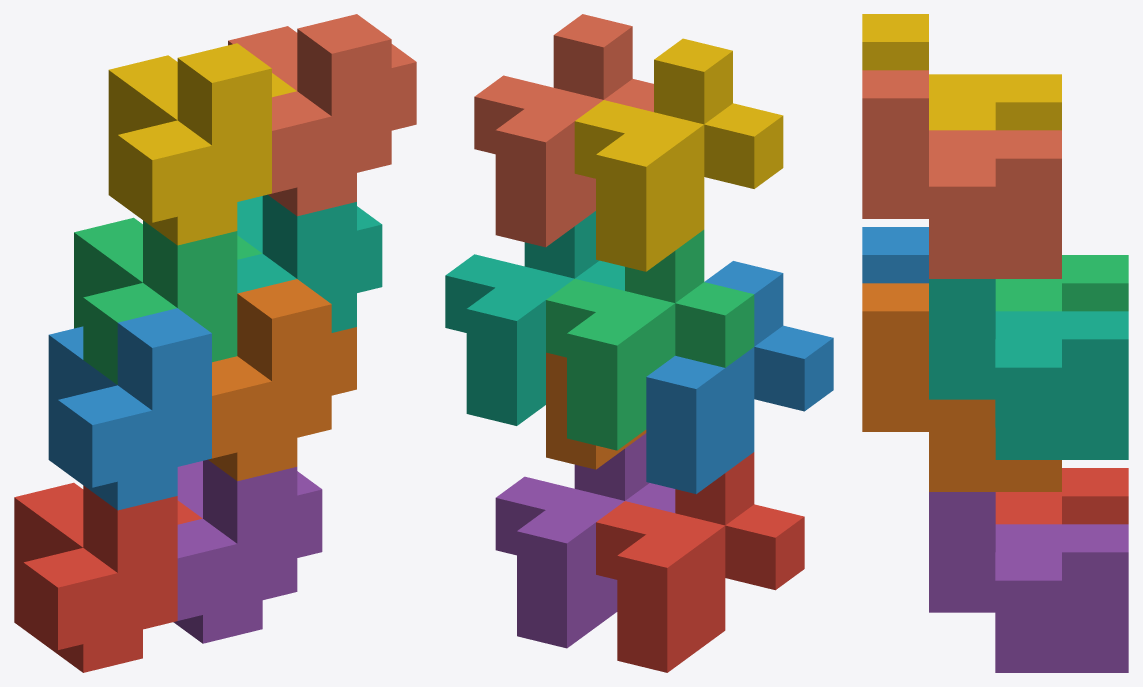
Rendered from tiling.obj.
3 renders of one model, left to right at view 1: azimuth 30°, elevation 25°; view 2: azimuth 150°, elevation 25°; view 3: azimuth 270°, elevation 25°, orthographic. The views are drawn at different scales.
Parts seen in each view (by area): view 1: copy_1_domain_4, copy_1_domain_2, copy_1_domain_1, copy_1_domain_8, copy_1_domain_6, copy_1_domain_5, copy_1_domain_3, copy_1_domain_7; view 2: copy_1_domain_4, copy_1_domain_1, copy_1_domain_3, copy_1_domain_8, copy_1_domain_2, copy_1_domain_5, copy_1_domain_7, copy_1_domain_6; view 3: copy_1_domain_8, copy_1_domain_5, copy_1_domain_7, copy_1_domain_6, copy_1_domain_4, copy_1_domain_1, copy_1_domain_3, copy_1_domain_2.
Boxes of the visible parts, x1=… form: copy_1_domain_4: x1=108, y1=43, x2=296, y2=245; copy_1_domain_2: x1=48, y1=308, x2=211, y2=510; copy_1_domain_1: x1=14, y1=482, x2=202, y2=672; copy_1_domain_8: x1=228, y1=14, x2=416, y2=216; copy_1_domain_6: x1=208, y1=279, x2=356, y2=481; copy_1_domain_5: x1=173, y1=459, x2=322, y2=643; copy_1_domain_3: x1=74, y1=217, x2=261, y2=384; copy_1_domain_7: x1=237, y1=194, x2=382, y2=332; copy_1_domain_4: x1=574, y1=38, x2=783, y2=271; copy_1_domain_1: x1=596, y1=452, x2=804, y2=672; copy_1_domain_3: x1=546, y1=230, x2=754, y2=450; copy_1_domain_8: x1=474, y1=14, x2=653, y2=247; copy_1_domain_2: x1=646, y1=261, x2=833, y2=494; copy_1_domain_5: x1=495, y1=433, x2=675, y2=648; copy_1_domain_7: x1=445, y1=211, x2=624, y2=425; copy_1_domain_6: x1=546, y1=352, x2=646, y2=469; copy_1_domain_8: x1=862, y1=70, x2=1061, y2=278; copy_1_domain_5: x1=929, y1=492, x2=1128, y2=672; copy_1_domain_7: x1=929, y1=279, x2=1128, y2=459; copy_1_domain_6: x1=862, y1=283, x2=1061, y2=491; copy_1_domain_4: x1=862, y1=14, x2=1061, y2=130; copy_1_domain_1: x1=995, y1=468, x2=1128, y2=524; copy_1_domain_3: x1=995, y1=255, x2=1128, y2=311; copy_1_domain_2: x1=862, y1=227, x2=928, y2=283.
Bounding box in the file's own units: 6 × 10 × 4.
